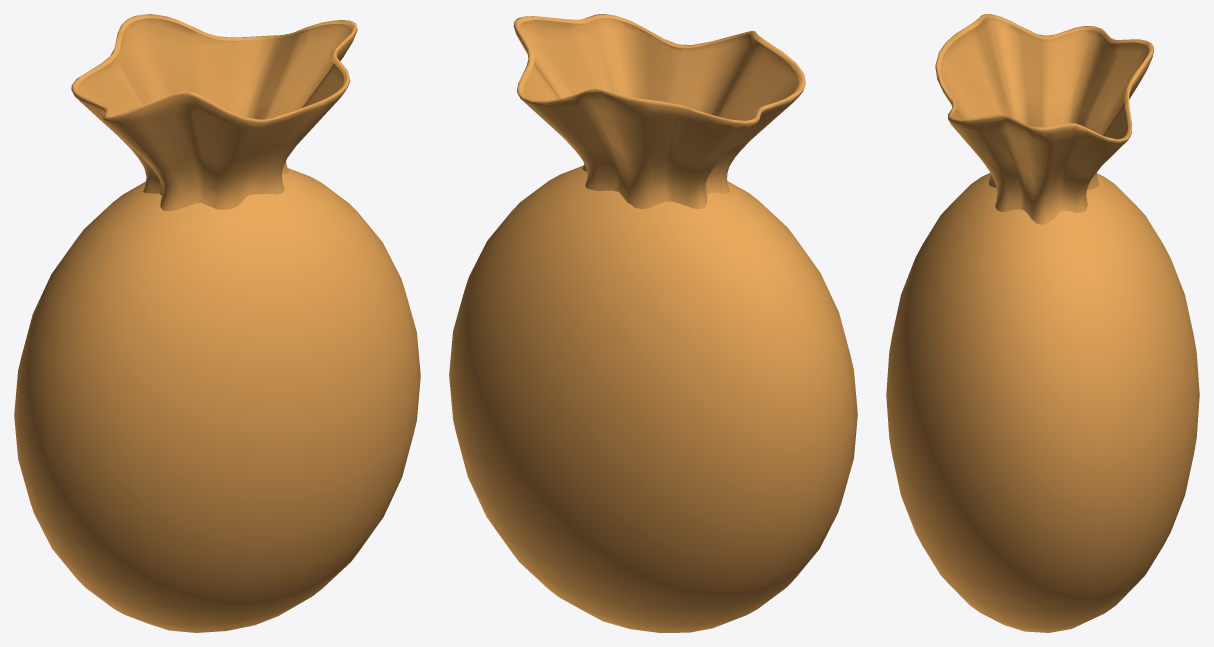
File: loot-bag-cloth.fbx
3 renders of one model, left to right at view 1: azimuth 30°, elevation 25°; view 2: azimuth 150°, elevation 25°; view 3: azimuth 270°, elevation 25°, orthographic. The views are drawn at different scales.
Parts seen in each view (by area): view 1: Cloth; view 2: Cloth; view 3: Cloth.
Boxes of the visible parts, box(x1,y1,x2,y2) form: Cloth: box(14, 14, 420, 632); Cloth: box(449, 14, 857, 632); Cloth: box(886, 14, 1199, 632).
Size of the model in its own units: 205 by 301 by 153.
